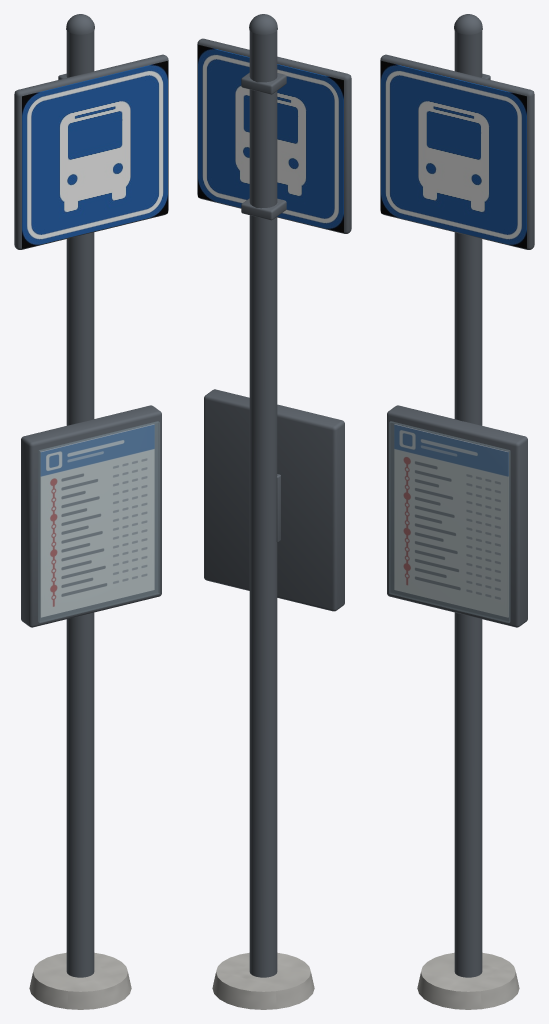
File: bus-stop-sign-pole.glb
3 renders of one model, left to right at view 1: azimuth 30°, elevation 25°; view 2: azimuth 150°, elevation 25°; view 3: azimuth 330°, elevation 25°, orthographic.
Visible parts, largest first — view 1: Bus_Stop_Sign_Pole; view 2: Bus_Stop_Sign_Pole; view 3: Bus_Stop_Sign_Pole.
Boxes of the visible parts, left/top/right/bottom form: Bus_Stop_Sign_Pole: left=14, top=14, right=168, bottom=1009; Bus_Stop_Sign_Pole: left=197, top=14, right=351, bottom=1009; Bus_Stop_Sign_Pole: left=380, top=14, right=534, bottom=1009.
Size of the model in its own units: 0.48 by 2.94 by 0.28.
5 materials, 3 textured.
